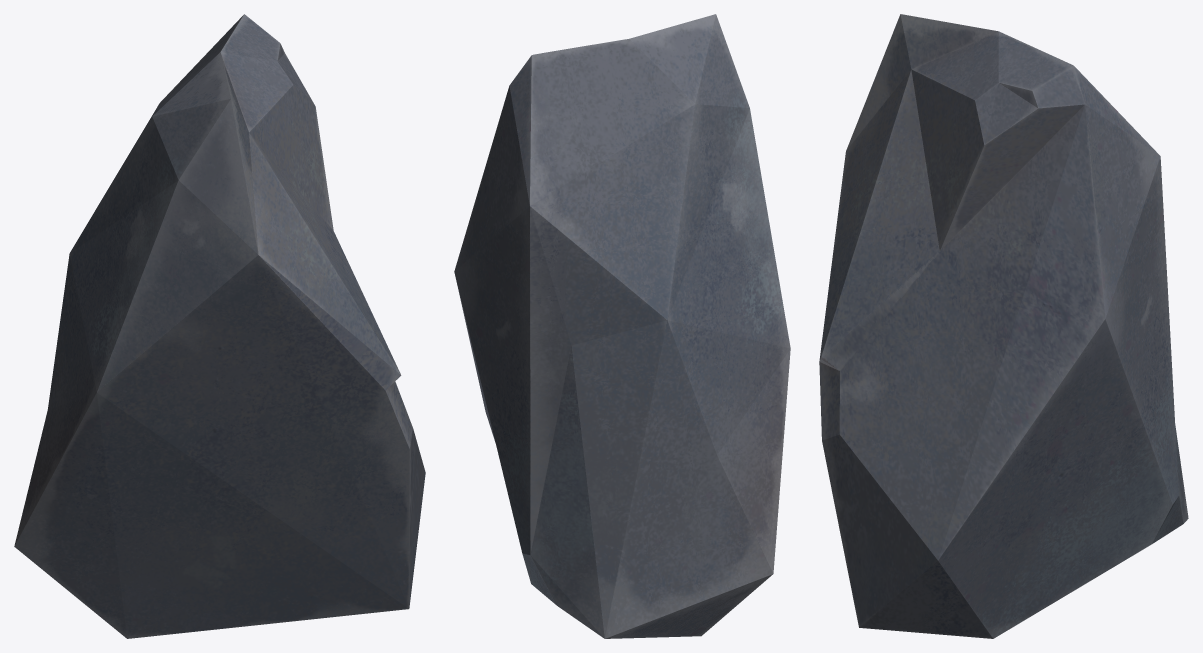
The model's file is stylized_rock_05.fbx.
3 renders of one model, left to right at view 1: azimuth 30°, elevation 25°; view 2: azimuth 150°, elevation 25°; view 3: azimuth 270°, elevation 25°, orthographic.
Parts seen in each view (by area): view 1: stylized_rock_05; view 2: stylized_rock_05; view 3: stylized_rock_05.
Boxes of the visible parts, x1,y1,x2,y2 form: stylized_rock_05: [14, 14, 425, 638]; stylized_rock_05: [454, 14, 790, 638]; stylized_rock_05: [819, 14, 1188, 638].
Bounding box in the file's own units: 76.47 × 120 × 69.35.
